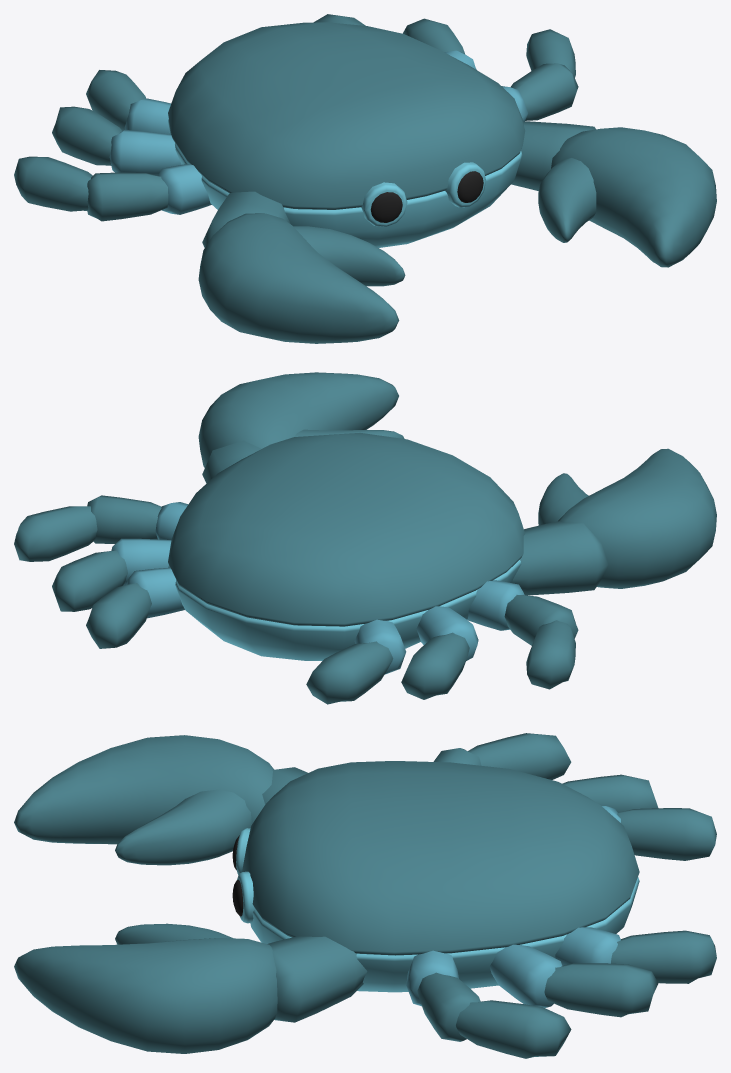
Rendered from Crab_2.fbx.
3 views of the same model, one above another, from view 1: azimuth 30°, elevation 25°; view 2: azimuth 150°, elevation 25°; view 3: azimuth 270°, elevation 25° (orthographic). The views are drawn at different scales.
Parts seen in each view (by area): view 1: Crab_2; view 2: Crab_2; view 3: Crab_2.
Boxes of the visible parts, <box> form: Crab_2: <box>14,14,716,343</box>; Crab_2: <box>14,372,716,704</box>; Crab_2: <box>14,733,716,1058</box>.
Size of the model in its own units: 40.66 by 9.78 by 40.71.
